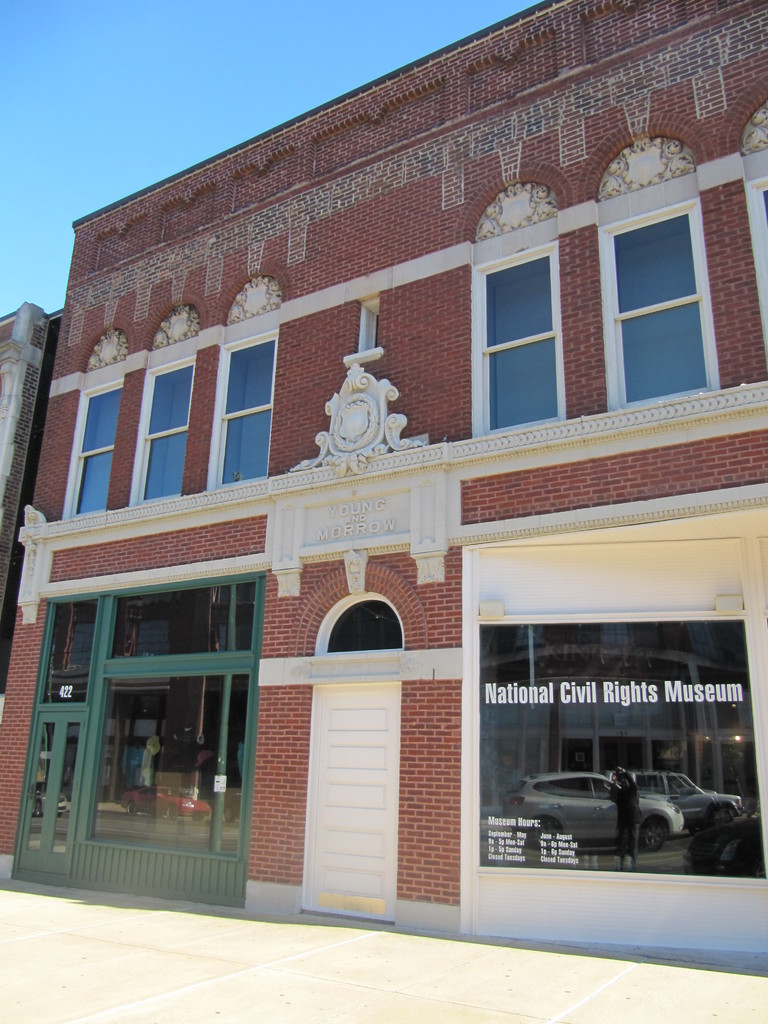Car: (504, 771, 678, 846), (618, 767, 748, 828), (116, 779, 213, 817)
